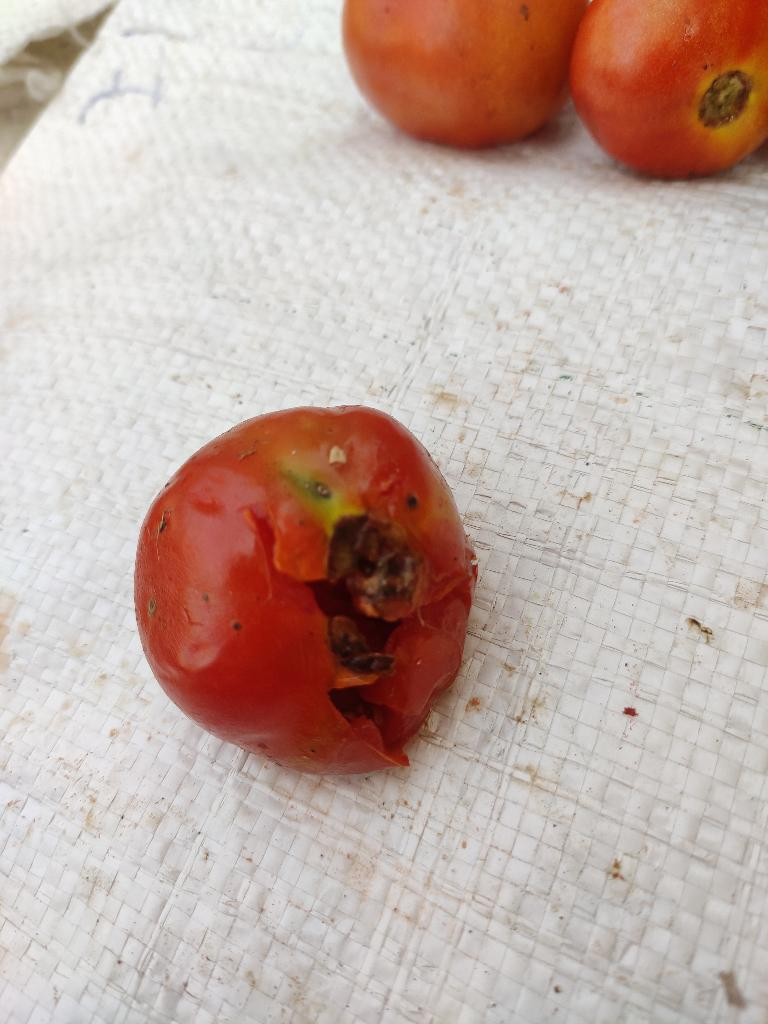rot_mold_decay: (308, 514, 426, 745)
tomato: (135, 406, 476, 773)
